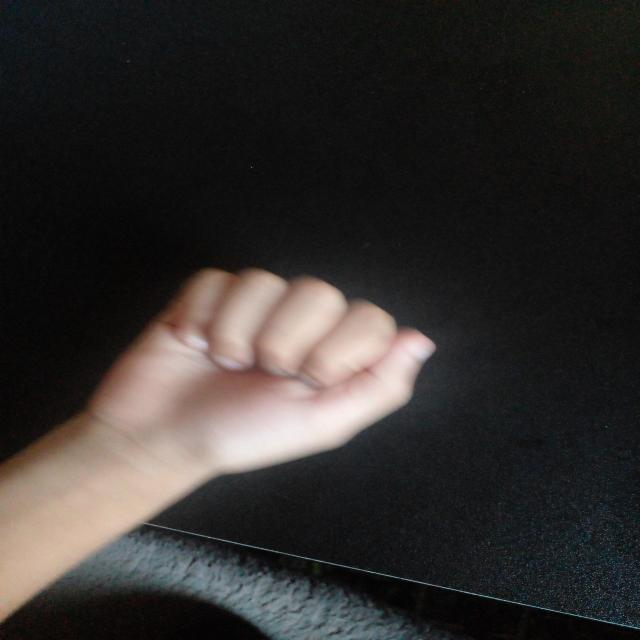Closed Hand: (107, 265, 435, 490)
